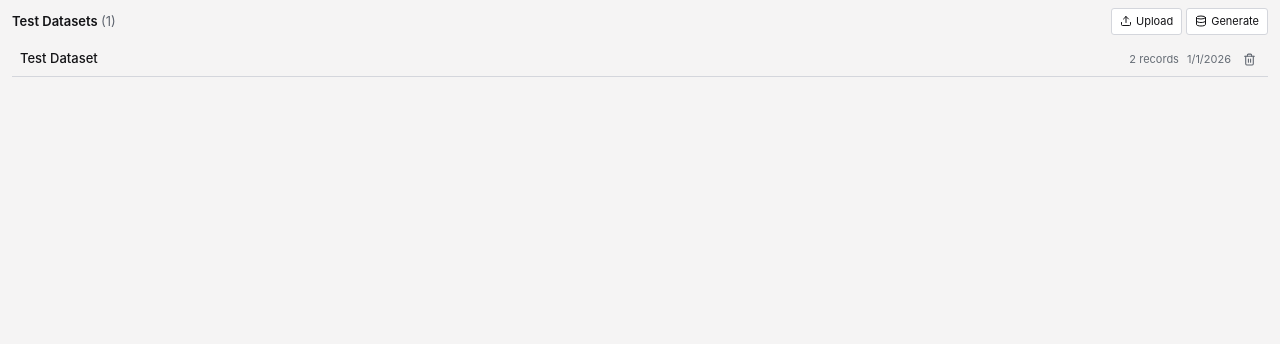
Test: [@schema-datasets-coverage] detail mode — delete from detail › delete button in detail mode removes dataset and returns to list
Note: Enter detail mode
Click the text "Test Dataset". click: [59, 58]
box: [20,50,98,66]
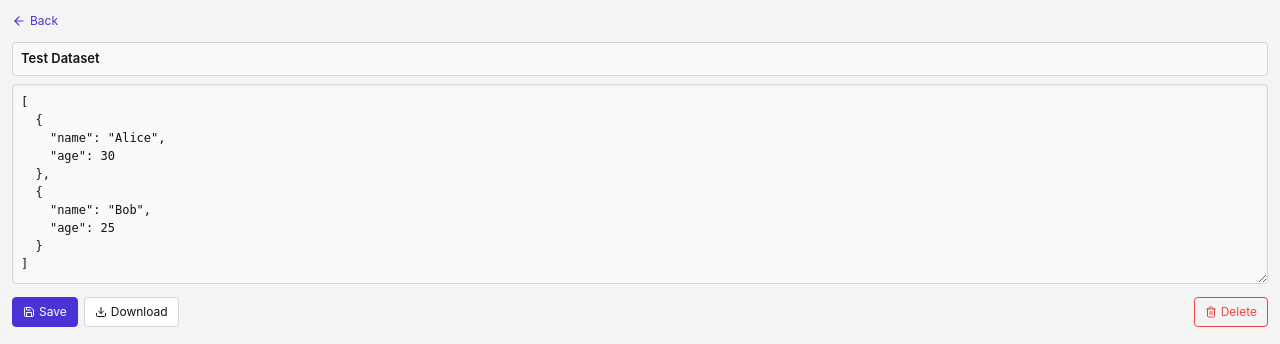
Now the button with aria-label "Back to dataset list" is shown, box [12,8,58,34]
Note: Click Delete in detail mode (single click, no confirm needed)
Click the button "Delete". click: [1231, 312]
box: [1194,297,1268,327]
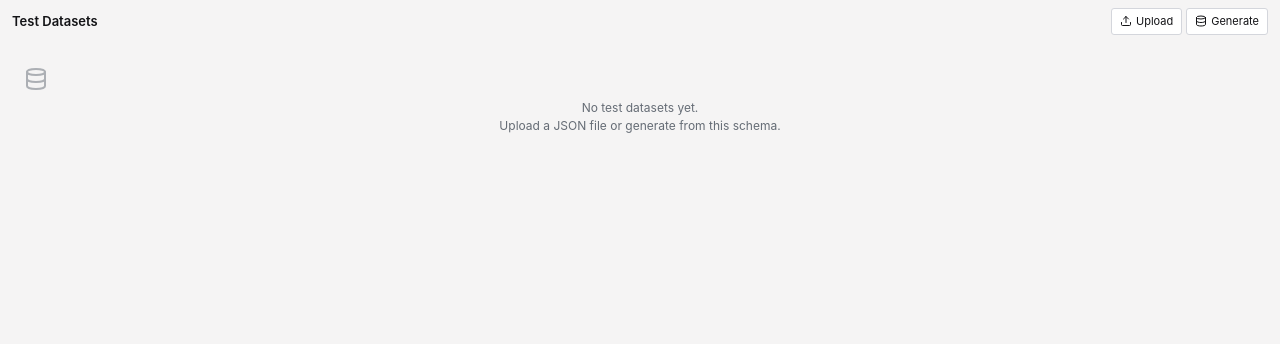
Now the text "No test datasets yet." is shown, box [582,100,698,114]
